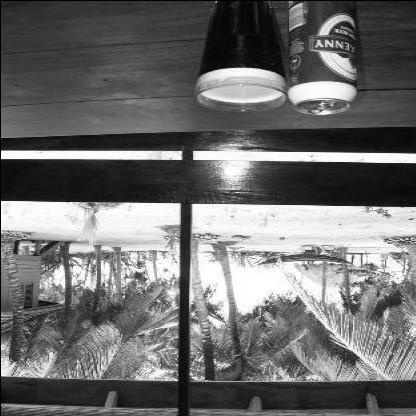alumunium_can: (286, 0, 360, 113)
objects: (192, 0, 288, 113)
